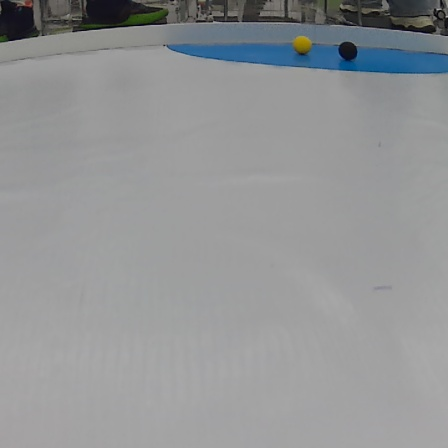black: (338, 42, 359, 60)
blue_base: (166, 36, 446, 78)
yellow: (294, 36, 313, 55)
